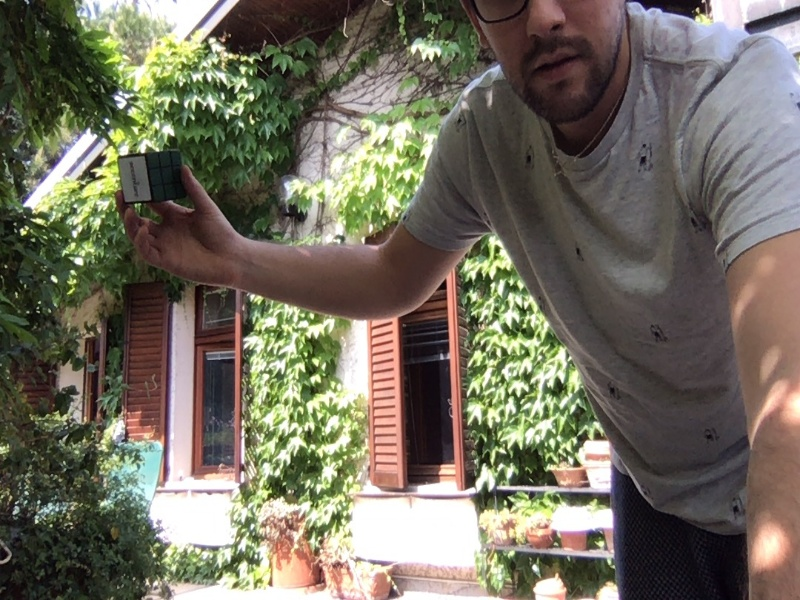rubik: (117, 150, 179, 204)
